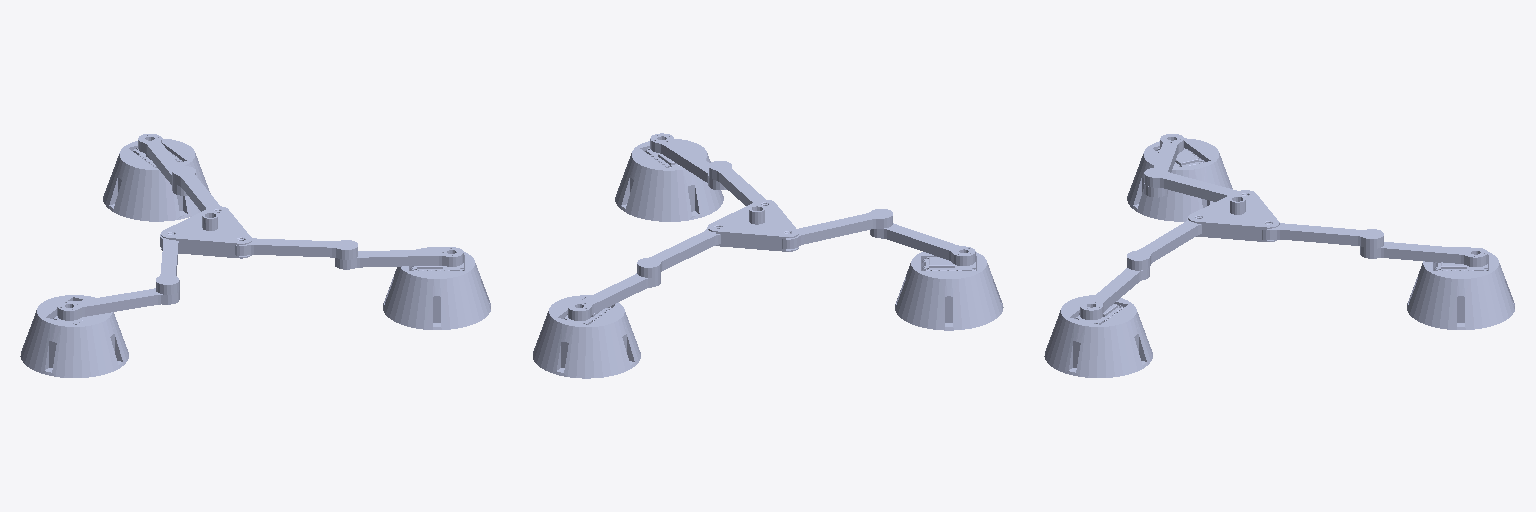
URDF robot description (3rrr_robot_urdf):
<?xml version="1.0" encoding="utf-8"?>
<!-- This URDF was automatically created by SolidWorks to URDF Exporter! Originally created by [author] ([email redacted]) 
     Commit Version: 1.6.0-4-g7f85cfe  Build Version: 1.6.7995.38578
     For more information, please see http://wiki.ros.org/sw_urdf_exporter -->
<robot
  name="3rrr_robot_urdf">
  <link
    name="base_link">
    <inertial>
      <origin
        xyz="-0.043858 -0.19668 0.019226"
        rpy="0 0 0" />
      <mass
        value="0.57799" />
      <inertia
        ixx="0.00041808"
        ixy="1.4393E-15"
        ixz="1.0779E-15"
        iyy="0.00041808"
        iyz="1.692E-14"
        izz="0.00065514" />
    </inertial>
    <visual>
      <origin
        xyz="0 0 0"
        rpy="0 0 0" />
      <geometry>
        <mesh
          filename="../meshes/base_link.STL" />
      </geometry>
      <material
        name="">
        <color
          rgba="0.79216 0.81961 0.93333 1" />
      </material>
    </visual>
    <collision>
      <origin
        xyz="0 0 0"
        rpy="0 0 0" />
      <geometry>
        <mesh
          filename="../meshes/base_link.STL" />
      </geometry>
    </collision>
  </link>
  <link
    name="bras_ax12_1">
    <inertial>
      <origin
        xyz="0.0033955 -0.048172 -0.0050002"
        rpy="0 0 0" />
      <mass
        value="0.016877" />
      <inertia
        ixx="1.9936E-05"
        ixy="1.3671E-06"
        ixz="-9.3119E-12"
        iyy="6.3757E-07"
        iyz="1.3211E-10"
        izz="2.0292E-05" />
    </inertial>
    <visual>
      <origin
        xyz="0 0 0"
        rpy="0 0 0" />
      <geometry>
        <mesh
          filename="../meshes/bras_ax12_1.STL" />
      </geometry>
      <material
        name="">
        <color
          rgba="0.79216 0.81961 0.93333 1" />
      </material>
    </visual>
    <collision>
      <origin
        xyz="0 0 0"
        rpy="0 0 0" />
      <geometry>
        <mesh
          filename="../meshes/bras_ax12_1.STL" />
      </geometry>
    </collision>
  </link>
  <joint
    name="joint_bras_ax12_0"
    type="revolute">
    <origin
      xyz="0 0.0135 0.0455"
      rpy="3.1416 0 3.017" />
    <parent
      link="base_link" />
    <child
      link="bras_ax12_1" />
    <axis
      xyz="0 0 1" />
    <limit
      lower="0"
      upper="5.24"
      effort="1"
      velocity="1" />
  </joint>
  <link
    name="bras_avec_triangle_1">
    <inertial>
      <origin
        xyz="-0.016592 0.0052619 0.004589"
        rpy="0 0 0" />
      <mass
        value="0.018783" />
      <inertia
        ixx="2.3333E-05"
        ixy="-5.0431E-06"
        ixz="7.5844E-08"
        iyy="1.7662E-06"
        iyz="3.412E-07"
        izz="2.4639E-05" />
    </inertial>
    <visual>
      <origin
        xyz="0 0 0"
        rpy="0 0 0" />
      <geometry>
        <mesh
          filename="../meshes/bras_avec_triangle_1.STL" />
      </geometry>
      <material
        name="">
        <color
          rgba="0.79216 0.81961 0.93333 1" />
      </material>
    </visual>
    <collision>
      <origin
        xyz="0 0 0"
        rpy="0 0 0" />
      <geometry>
        <mesh
          filename="../meshes/bras_avec_triangle_1.STL" />
      </geometry>
    </collision>
  </link>
  <joint
    name="joint_bras_triangle_0"
    type="revolute">
    <origin
      xyz="-0.0071344 -0.14493 -0.01"
      rpy="3.1416 0 2.9939" />
    <parent
      link="bras_ax12_1" />
    <child
      link="bras_avec_triangle_1" />
    <axis
      xyz="0 0 1" />
    <limit
      lower="-3.14"
      upper="3.14"
      effort="1"
      velocity="1" />
  </joint>
  <link
    name="triangle">
    <inertial>
      <origin
        xyz="-0.024905 -0.028947 0.0072109"
        rpy="0 0 0" />
      <mass
        value="0.049485" />
      <inertia
        ixx="1.5427E-05"
        ixy="-1.0588E-20"
        ixz="-2.6736E-21"
        iyy="1.5427E-05"
        iyz="1.9022E-20"
        izz="2.8505E-05" />
    </inertial>
    <visual>
      <origin
        xyz="0 0 0"
        rpy="0 0 0" />
      <geometry>
        <mesh
          filename="../meshes/triangle.STL" />
      </geometry>
      <material
        name="">
        <color
          rgba="0.79216 0.81961 0.93333 1" />
      </material>
    </visual>
    <collision>
      <origin
        xyz="0 0 0"
        rpy="0 0 0" />
      <geometry>
        <mesh
          filename="../meshes/triangle.STL" />
      </geometry>
    </collision>
  </link>
  <joint
    name="joint_triangle"
    type="revolute">
    <origin
      xyz="-0.016211 -0.082561 0.0125"
      rpy="-3.1416 0 0.60316" />
    <parent
      link="bras_avec_triangle_1" />
    <child
      link="triangle" />
    <axis
      xyz="0 0 1" />
    <limit
      lower="0"
      upper="0"
      effort="0"
      velocity="0" />
  </joint>
  <link
    name="bras_ax12_2">
    <inertial>
      <origin
        xyz="0.021239 -0.04337 -0.0050002"
        rpy="0 0 0" />
      <mass
        value="0.016877" />
      <inertia
        ixx="1.6262E-05"
        ixy="7.6987E-06"
        ixz="-5.8247E-11"
        iyy="4.3115E-06"
        iyz="1.1894E-10"
        izz="2.0292E-05" />
    </inertial>
    <visual>
      <origin
        xyz="0 0 0"
        rpy="0 0 0" />
      <geometry>
        <mesh
          filename="../meshes/bras_ax12_2.STL" />
      </geometry>
      <material
        name="">
        <color
          rgba="0.79216 0.81961 0.93333 1" />
      </material>
    </visual>
    <collision>
      <origin
        xyz="0 0 0"
        rpy="0 0 0" />
      <geometry>
        <mesh
          filename="../meshes/bras_ax12_2.STL" />
      </geometry>
    </collision>
  </link>
  <joint
    name="joint_bras_ax12_1"
    type="revolute">
    <origin
      xyz="0.11619 -0.33973 0.046"
      rpy="-3.1416 0 1.5637" />
    <parent
      link="base_link" />
    <child
      link="bras_ax12_2" />
    <axis
      xyz="0 0 1" />
    <limit
      lower="0"
      upper="5.24"
      effort="1"
      velocity="1" />
    <mimic
      joint="joint_bras_ax12_0"
      multiplier="1"
      offset="0" />
  </joint>
  <link
    name="bras_avec_triangle_2">
    <inertial>
      <origin
        xyz="0.010597 -0.024591 0.004589"
        rpy="0 0 0" />
      <mass
        value="0.018783" />
      <inertia
        ixx="1.3905E-05"
        ixy="1.1827E-05"
        ixz="-2.3266E-07"
        iyy="1.1195E-05"
        iyz="2.6085E-07"
        izz="2.4639E-05" />
    </inertial>
    <visual>
      <origin
        xyz="0 0 0"
        rpy="0 0 0" />
      <geometry>
        <mesh
          filename="../meshes/bras_avec_triangle_2.STL" />
      </geometry>
      <material
        name="">
        <color
          rgba="0.79216 0.81961 0.93333 1" />
      </material>
    </visual>
    <collision>
      <origin
        xyz="0 0 0"
        rpy="0 0 0" />
      <geometry>
        <mesh
          filename="../meshes/bras_avec_triangle_2.STL" />
      </geometry>
    </collision>
  </link>
  <joint
    name="joint_bras_triangle_1"
    type="revolute">
    <origin
      xyz="0.0471 -0.10848 -0.01"
      rpy="-3.1416 0 -1.8104" />
    <parent
      link="bras_ax12_2" />
    <child
      link="bras_avec_triangle_2" />
    <axis
      xyz="0 0 1" />
    <limit
      lower="-3.14"
      upper="3.14"
      effort="1"
      velocity="1" />
  </joint>
  <link
    name="bras_ax12_3">
    <inertial>
      <origin
        xyz="0 0 -0.0050002"
        rpy="0 0 0" />
      <mass
        value="0.016877" />
      <inertia
        ixx="1.9936E-05"
        ixy="1.3671E-06"
        ixz="-9.3119E-12"
        iyy="6.3757E-07"
        iyz="1.3211E-10"
        izz="2.0292E-05" />
    </inertial>
    <visual>
      <origin
        xyz="0 0 0"
        rpy="0 0 0" />
      <geometry>
        <mesh
          filename="../meshes/bras_ax12_3.STL" />
      </geometry>
      <material
        name="">
        <color
          rgba="0.79216 0.81961 0.93333 1" />
      </material>
    </visual>
    <collision>
      <origin
        xyz="0 0 0"
        rpy="0 0 0" />
      <geometry>
        <mesh
          filename="../meshes/bras_ax12_3.STL" />
      </geometry>
    </collision>
  </link>
  <joint
    name="joint_bras_ax12_2"
    type="revolute">
    <origin
      xyz="-0.24681 -0.26547 0.046"
      rpy="-3.1416 0 -1.5185" />
    <parent
      link="base_link" />
    <child
      link="bras_ax12_3" />
    <axis
      xyz="0 0 1" />
    <limit
      lower="0"
      upper="5.24"
      effort="1"
      velocity="1" />
  </joint>
  <link
    name="bras_avec_triange_3">
    <inertial>
      <origin
        xyz="0.0067257 0.019397 0.004589"
        rpy="0 0 0" />
      <mass
        value="0.018783" />
      <inertia
        ixx="1.7788E-05"
        ixy="1.069E-05"
        ixz="-1.8495E-07"
        iyy="7.3117E-06"
        iyz="2.9659E-07"
        izz="2.4639E-05" />
    </inertial>
    <visual>
      <origin
        xyz="0 0 0"
        rpy="0 0 0" />
      <geometry>
        <mesh
          filename="../meshes/bras_avec_triange_3.STL" />
      </geometry>
      <material
        name="">
        <color
          rgba="0.79216 0.81961 0.93333 1" />
      </material>
    </visual>
    <collision>
      <origin
        xyz="0 0 0"
        rpy="0 0 0" />
      <geometry>
        <mesh
          filename="../meshes/bras_avec_triange_3.STL" />
      </geometry>
    </collision>
  </link>
  <joint
    name="joint_bras_triangle_2"
    type="revolute">
    <origin
      xyz="-0.018907 -0.14162 -0.01"
      rpy="-3.1416 0 2.741" />
    <parent
      link="bras_ax12_3" />
    <child
      link="bras_avec_triange_3" />
    <axis
      xyz="0 0 1" />
    <limit
      lower="-3.14"
      upper="3.14"
      effort="1"
      velocity="1" />
  </joint>
</robot>

--- Facts derived from the render (not from the file) ---
The picture shows the robot from 3 angles, left to right: view 1: azimuth 30°, elevation 25°; view 2: azimuth 150°, elevation 25°; view 3: azimuth 270°, elevation 25°; orthographic projection.
Model 3rrr_robot_urdf with 8 links and 7 joints (7 revolute), rooted at base_link, posed every joint at zero.
Links seen in each view (by area): view 1: base_link, triangle, bras_ax12_2, bras_avec_triangle_2, bras_ax12_1, bras_avec_triangle_1, bras_avec_triange_3; view 2: base_link, triangle, bras_ax12_1, bras_avec_triangle_2, bras_avec_triange_3, bras_avec_triangle_1, bras_ax12_2; view 3: base_link, triangle, bras_ax12_1, bras_avec_triangle_1, bras_avec_triangle_2, bras_avec_triange_3, bras_ax12_2.
Link boxes in pixels (x1,y1,x2,y2): base_link: [20, 138, 490, 377]; triangle: [66, 206, 251, 320]; bras_ax12_2: [60, 247, 463, 320]; bras_avec_triangle_2: [57, 238, 357, 318]; bras_ax12_1: [58, 134, 187, 310]; bras_avec_triangle_1: [60, 166, 221, 316]; bras_avec_triange_3: [156, 233, 179, 294]; base_link: [533, 139, 1003, 378]; triangle: [708, 200, 798, 251]; bras_ax12_1: [568, 223, 975, 320]; bras_avec_triangle_2: [709, 161, 974, 265]; bras_avec_triange_3: [782, 209, 892, 248]; bras_avec_triangle_1: [637, 227, 721, 277]; bras_ax12_2: [650, 133, 975, 261]; base_link: [1044, 138, 1514, 377]; triangle: [1144, 145, 1279, 241]; bras_ax12_1: [1144, 134, 1487, 266]; bras_avec_triangle_1: [1144, 137, 1383, 248]; bras_avec_triangle_2: [1127, 137, 1201, 270]; bras_avec_triange_3: [1144, 168, 1248, 201]; bras_ax12_2: [1080, 268, 1149, 319].
Bounding box of the posed robot: 0.4406 × 0.4329 × 0.0805 m (x, y, z).
8 mesh visuals loaded from 8 distinct referenced files (8 binary STL).